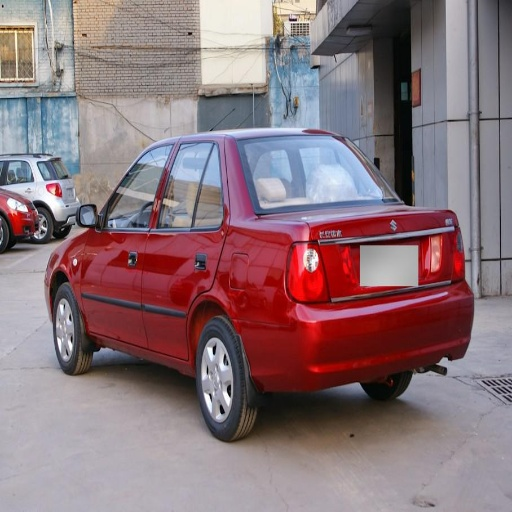back_bumper: (249, 278, 471, 391)
back_glass: (244, 136, 397, 210)
back_left_door: (142, 139, 227, 358)
tailgate: (304, 199, 431, 300)
